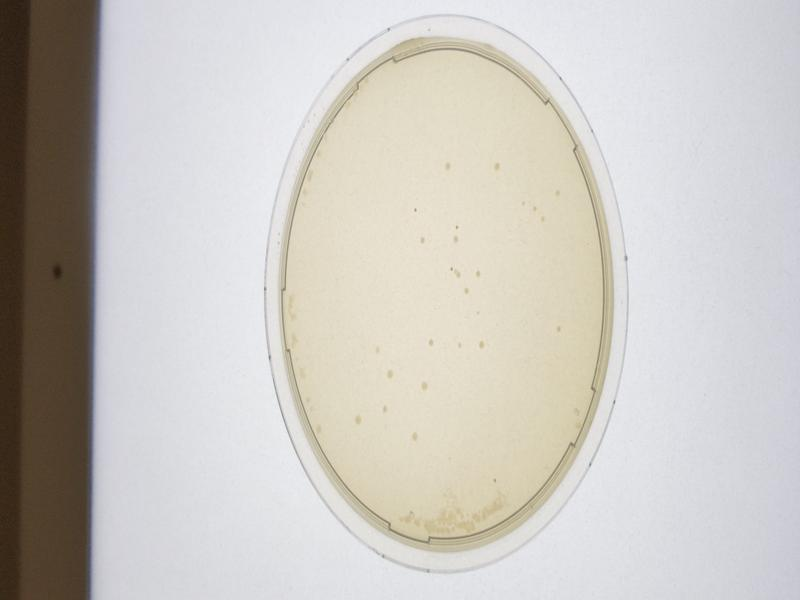colony: (486, 156, 505, 178), (548, 182, 567, 201), (414, 376, 432, 395), (407, 430, 424, 447), (415, 232, 431, 250), (439, 158, 455, 173), (422, 335, 436, 352), (348, 412, 365, 426), (376, 399, 391, 414), (551, 319, 565, 335), (475, 337, 489, 352), (469, 265, 484, 279), (382, 365, 395, 381), (454, 338, 467, 354), (450, 233, 465, 245), (408, 202, 419, 218), (461, 281, 471, 298), (371, 346, 384, 359), (453, 221, 465, 233), (539, 214, 548, 227), (530, 202, 538, 214)
